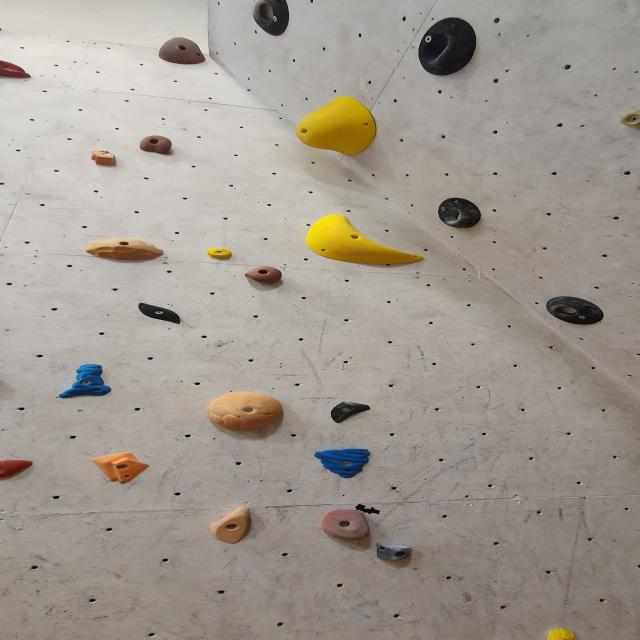Crimp: (314, 449, 373, 478), (330, 403, 373, 423), (0, 62, 34, 82), (206, 247, 235, 260)
Jug: (321, 510, 373, 541), (157, 38, 207, 66), (244, 267, 286, 288), (138, 136, 176, 156)
Pinch: (59, 364, 118, 398), (208, 509, 256, 545), (376, 542, 418, 561), (88, 150, 121, 167), (618, 110, 640, 133)
Pocket: (417, 16, 482, 81), (544, 294, 607, 326), (436, 200, 484, 232), (253, 0, 290, 38)
Sloper: (302, 213, 424, 265), (295, 97, 380, 160), (206, 393, 288, 433), (81, 239, 167, 264), (92, 452, 152, 485), (138, 304, 185, 324), (1, 460, 37, 480), (542, 627, 578, 640)
